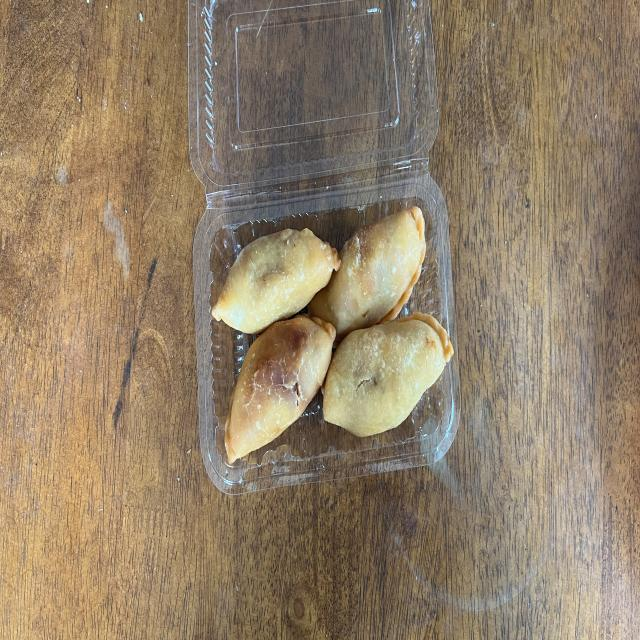karipap: (225, 316, 336, 464), (322, 313, 451, 438), (309, 207, 426, 342), (211, 229, 341, 333)
